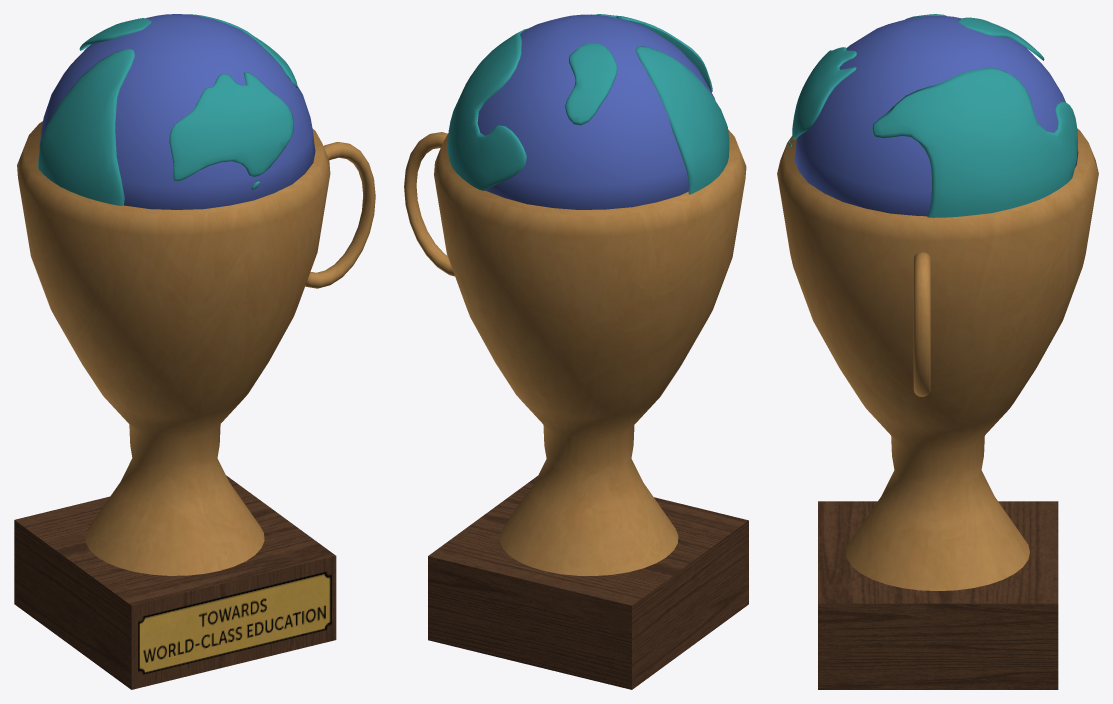
The model's file is Trophy.gltf.
3 views of the same model, side by side, from view 1: azimuth 30°, elevation 25°; view 2: azimuth 150°, elevation 25°; view 3: azimuth 270°, elevation 25° (orthographic). The views are drawn at different scales.
Parts seen in each view (by area): view 1: Trophy, Cube, Bottom.001, AUNZ, Africa, Torus.001, Continent; view 2: Trophy, Cube, Bottom.001, USA, Africa, Continent, Torus.001, AUNZ; view 3: Trophy, Cube, Bottom.001, USA, Torus.001, AUNZ, Continent.
Part boxes in pixels (x1,y1,x2,y2): Trophy: (17, 121, 330, 575); Cube: (14, 475, 336, 689); Bottom.001: (39, 14, 315, 209); AUNZ: (169, 72, 293, 189); Africa: (38, 48, 134, 205); Torus.001: (305, 142, 375, 288); Continent: (79, 18, 151, 50); Trophy: (434, 130, 746, 575); Cube: (428, 476, 748, 689); Bottom.001: (477, 14, 715, 209); USA: (447, 28, 527, 190); Africa: (635, 46, 729, 194); Continent: (565, 43, 617, 125); Torus.001: (404, 132, 454, 276); AUNZ: (596, 14, 712, 91); Trophy: (777, 128, 1098, 590); Cube: (818, 501, 1058, 689); Bottom.001: (794, 15, 1078, 216); USA: (872, 67, 1077, 217); Torus.001: (913, 252, 930, 396); AUNZ: (788, 47, 856, 146); Continent: (957, 17, 1044, 60).
Size of the model in its own units: 58.35 by 101 by 48.26.
4 materials, 2 textured.
